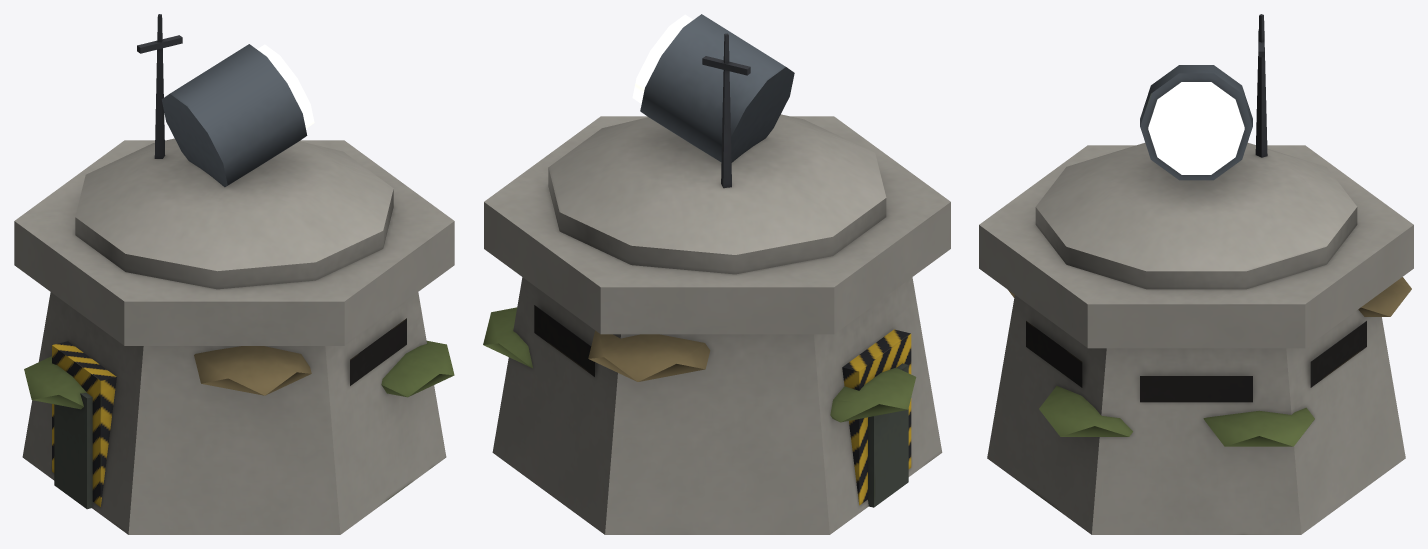
Rendered from fort_l6_post.glb.
3 renders of one model, left to right at view 1: azimuth 30°, elevation 25°; view 2: azimuth 150°, elevation 25°; view 3: azimuth 270°, elevation 25°, orthographic. The views are drawn at different scales.
Visible parts, largest first — view 1: fort_l6_post; view 2: fort_l6_post; view 3: fort_l6_post.
Part boxes in pixels (x1,y1,x2,y2): fort_l6_post: (14, 14, 454, 534); fort_l6_post: (483, 14, 950, 534); fort_l6_post: (979, 14, 1413, 534).
Size of the model in its own units: 0.2641 by 0.29 by 0.27.
Materials: 2 (1 with a texture image).
